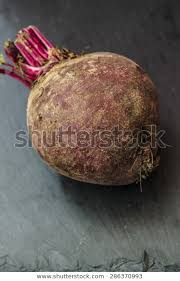beet: (1, 27, 161, 185)
